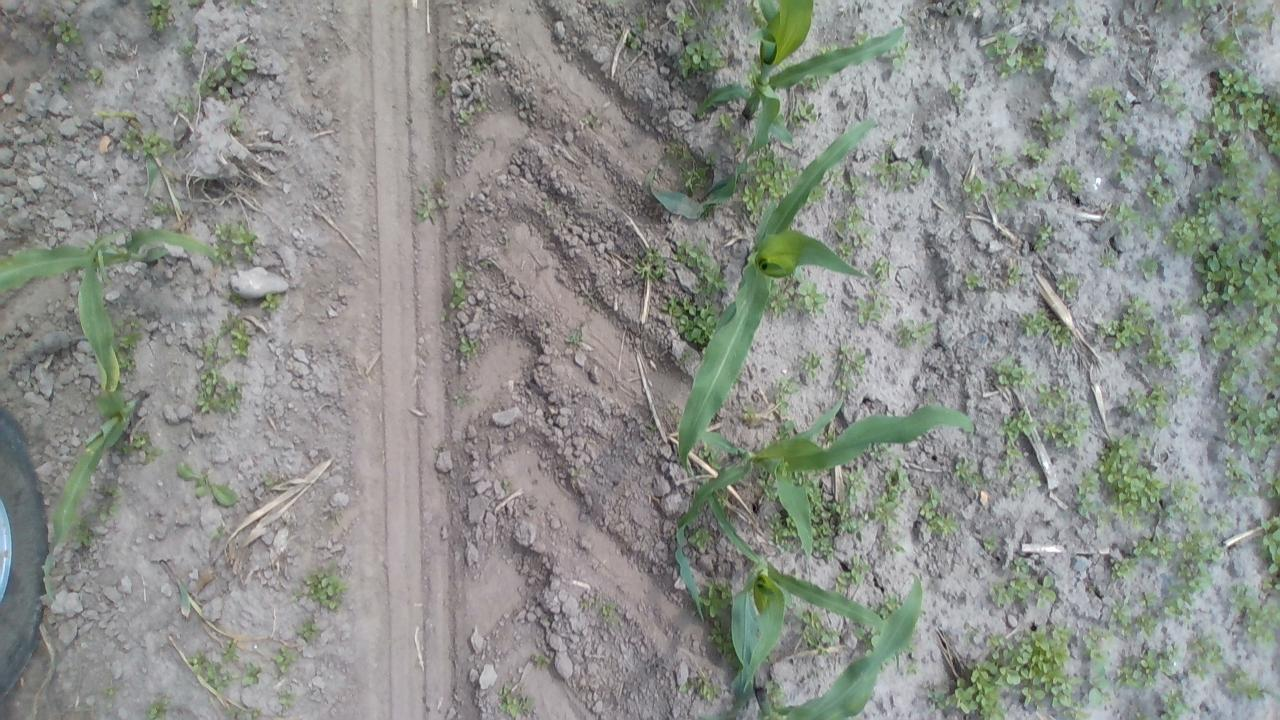Maize: (676, 392, 976, 626), (680, 117, 876, 460), (652, 0, 912, 218), (704, 492, 900, 690), (5, 228, 214, 394), (717, 574, 923, 719), (49, 388, 152, 608), (90, 102, 183, 214), (170, 635, 244, 716), (162, 567, 232, 642)
Weeds: (1196, 232, 1280, 356), (986, 630, 1078, 712), (1209, 65, 1277, 154), (1096, 434, 1167, 518), (1216, 361, 1276, 454), (1154, 0, 1280, 36), (806, 480, 862, 556), (744, 148, 798, 219), (954, 655, 1010, 719), (1175, 528, 1225, 598), (1233, 168, 1280, 234), (1094, 296, 1150, 350), (1228, 584, 1276, 646), (674, 238, 728, 293), (662, 294, 718, 346), (408, 174, 458, 232), (984, 30, 1044, 77), (994, 442, 1040, 502), (828, 202, 878, 254), (178, 463, 236, 505), (1101, 128, 1140, 188), (1216, 145, 1260, 198), (1167, 212, 1222, 254), (874, 462, 911, 523), (1124, 382, 1171, 428), (991, 574, 1057, 606), (297, 567, 346, 610), (916, 487, 958, 537), (1076, 664, 1116, 716), (1044, 404, 1090, 448), (110, 126, 172, 158), (218, 308, 254, 363), (1149, 78, 1194, 122), (196, 370, 242, 413), (676, 38, 724, 78), (799, 610, 842, 654), (1016, 308, 1068, 344), (680, 665, 724, 707), (1144, 154, 1178, 208), (832, 555, 874, 597), (1116, 650, 1160, 689), (850, 286, 894, 324), (991, 355, 1034, 392), (1085, 82, 1129, 118), (702, 616, 732, 668), (1224, 455, 1263, 494), (836, 343, 870, 387), (946, 450, 986, 487), (1166, 592, 1207, 628), (91, 482, 122, 529), (1188, 636, 1224, 675), (191, 66, 230, 102), (1170, 478, 1199, 526), (204, 222, 233, 270), (501, 681, 536, 720), (1182, 134, 1222, 168), (1145, 323, 1174, 369), (792, 275, 828, 312), (1072, 496, 1109, 532), (1131, 532, 1175, 562), (1082, 627, 1116, 664), (167, 90, 202, 125), (998, 410, 1036, 442), (700, 581, 732, 619), (774, 378, 801, 423), (1224, 668, 1264, 698), (1153, 690, 1193, 720), (51, 16, 86, 50), (789, 98, 820, 136), (118, 316, 148, 353), (895, 320, 934, 348), (922, 681, 950, 720), (869, 254, 901, 288), (1107, 552, 1141, 584), (225, 43, 256, 78), (140, 0, 172, 32), (1032, 107, 1065, 138), (878, 528, 908, 562), (456, 98, 491, 127), (1258, 516, 1276, 572), (430, 58, 452, 103), (1034, 380, 1068, 409), (991, 178, 1018, 214), (130, 431, 161, 462), (664, 134, 694, 166), (961, 262, 989, 296), (1110, 202, 1137, 237), (766, 511, 794, 544), (636, 251, 666, 280), (873, 152, 899, 185), (172, 33, 198, 66), (1059, 166, 1088, 195), (679, 162, 708, 191), (298, 614, 324, 646), (576, 284, 603, 314), (1098, 243, 1128, 270), (1018, 141, 1053, 164), (451, 266, 471, 306), (901, 157, 931, 183), (597, 599, 620, 632), (1208, 509, 1238, 534), (1157, 636, 1181, 667), (274, 684, 298, 714), (146, 696, 178, 718), (612, 27, 644, 49), (1212, 33, 1240, 58), (1128, 614, 1156, 639), (232, 227, 256, 256), (892, 38, 913, 70), (746, 0, 767, 31), (1074, 472, 1098, 498), (202, 343, 228, 367), (846, 470, 870, 496), (1026, 176, 1050, 202), (1054, 270, 1078, 296), (1107, 602, 1134, 625), (1034, 224, 1056, 252), (1141, 217, 1162, 246), (580, 108, 606, 131), (770, 286, 790, 315), (802, 352, 826, 376), (571, 590, 595, 614), (1008, 548, 1032, 572), (1264, 465, 1280, 501), (260, 467, 282, 493), (763, 678, 785, 704), (226, 109, 245, 139), (688, 527, 712, 550), (558, 328, 581, 352), (964, 175, 986, 200), (150, 197, 170, 224), (206, 664, 230, 686), (896, 658, 918, 682), (696, 0, 731, 15), (226, 290, 248, 313), (978, 534, 1001, 556), (272, 650, 296, 671), (258, 294, 283, 314), (240, 662, 260, 686), (847, 172, 867, 196), (1084, 36, 1110, 54), (1170, 298, 1192, 319), (106, 677, 123, 704), (993, 0, 1020, 17), (826, 166, 845, 190), (86, 65, 104, 90), (1139, 257, 1160, 278), (856, 626, 878, 646), (530, 648, 550, 670), (849, 27, 869, 49), (633, 10, 653, 32), (119, 354, 138, 377), (1176, 336, 1197, 356), (1066, 98, 1080, 128), (730, 128, 749, 150), (221, 636, 237, 662), (1004, 266, 1024, 286), (496, 230, 514, 252), (1140, 592, 1162, 610), (1047, 6, 1062, 32), (51, 78, 70, 98), (74, 524, 93, 544), (458, 338, 479, 356), (810, 44, 837, 58), (207, 524, 224, 546), (881, 595, 900, 614), (453, 394, 472, 413), (674, 12, 694, 30), (716, 112, 734, 132), (960, 0, 985, 14), (948, 81, 964, 102), (1178, 378, 1196, 396), (468, 60, 486, 77), (713, 24, 731, 40), (1128, 708, 1152, 720), (188, 652, 205, 668), (804, 78, 822, 93), (1068, 10, 1082, 28), (36, 4, 49, 22), (705, 149, 717, 168), (554, 215, 567, 230), (542, 198, 553, 214), (478, 257, 491, 270)
